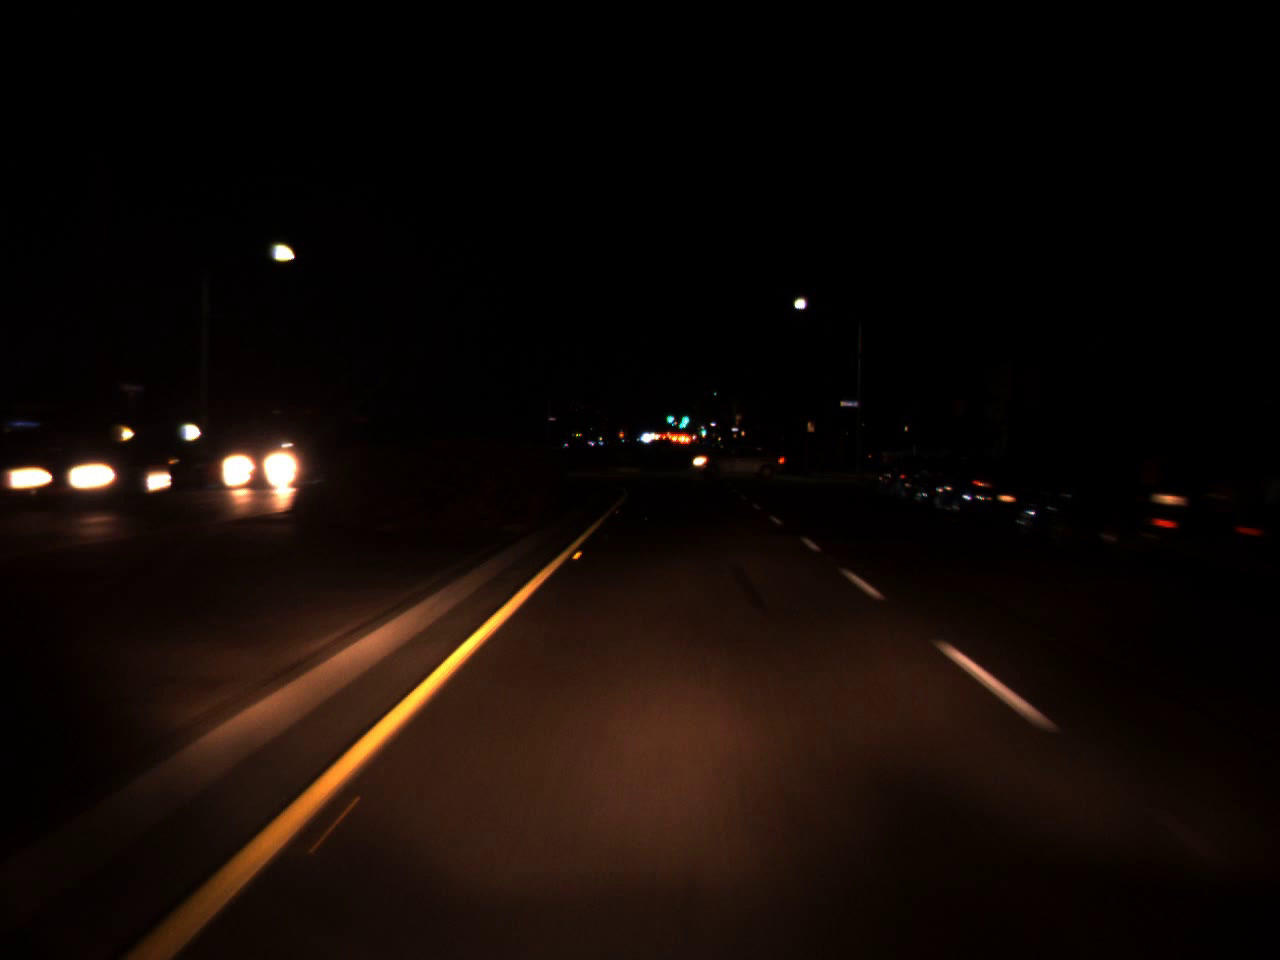go: (676, 400, 690, 433), (666, 408, 673, 426), (698, 423, 707, 435)
